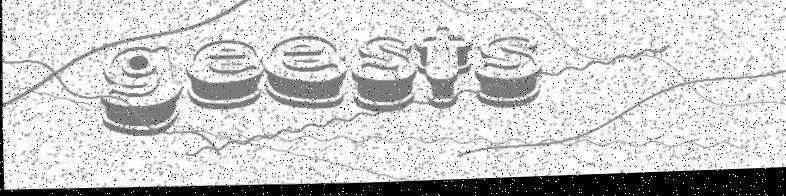e: (262, 33, 348, 116), (183, 37, 266, 113)
g: (94, 41, 185, 140)
s: (469, 32, 545, 115), (345, 33, 419, 118)
t: (413, 26, 478, 116)
